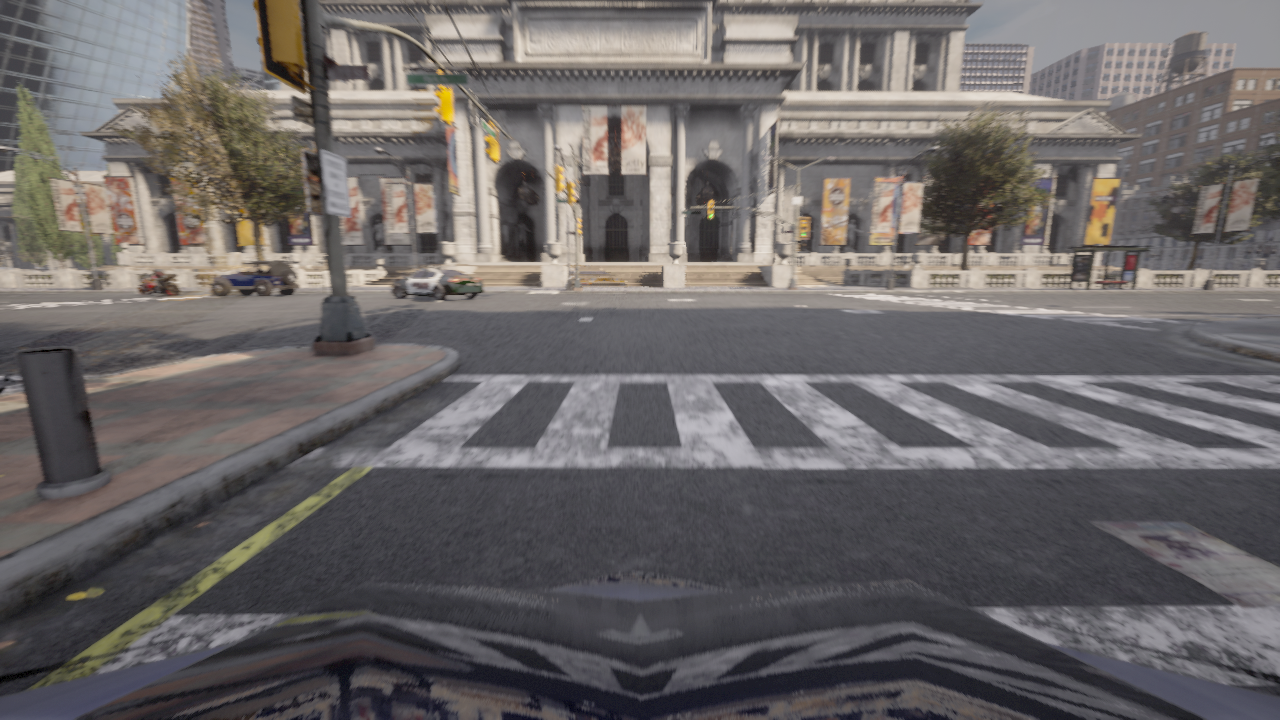cyclist: (0, 569, 1279, 719), (208, 260, 298, 296), (391, 266, 484, 300), (136, 273, 181, 295)
